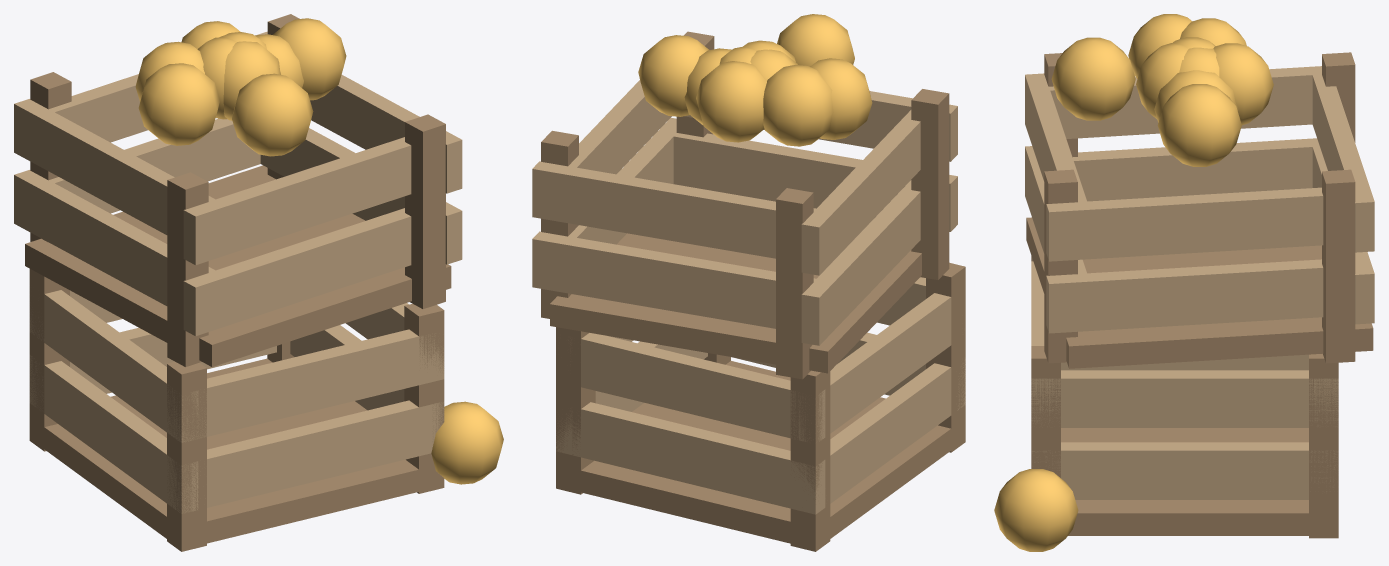
The model's file is Kerb_CrateStack.fbx.
The picture shows the model from 3 angles, left to right: view 1: azimuth 30°, elevation 25°; view 2: azimuth 150°, elevation 25°; view 3: azimuth 270°, elevation 25°; orthographic projection. The views are drawn at different scales.
Visible parts, largest first — view 1: Kerb_CrateStack; view 2: Kerb_CrateStack; view 3: Kerb_CrateStack.
Boxes of the visible parts, x1=… form: Kerb_CrateStack: x1=14, y1=14, x2=503, y2=551; Kerb_CrateStack: x1=532, y1=14, x2=965, y2=551; Kerb_CrateStack: x1=994, y1=14, x2=1374, y2=551.
Bounding box in the file's own units: 0.7738 × 0.9539 × 0.7679.
